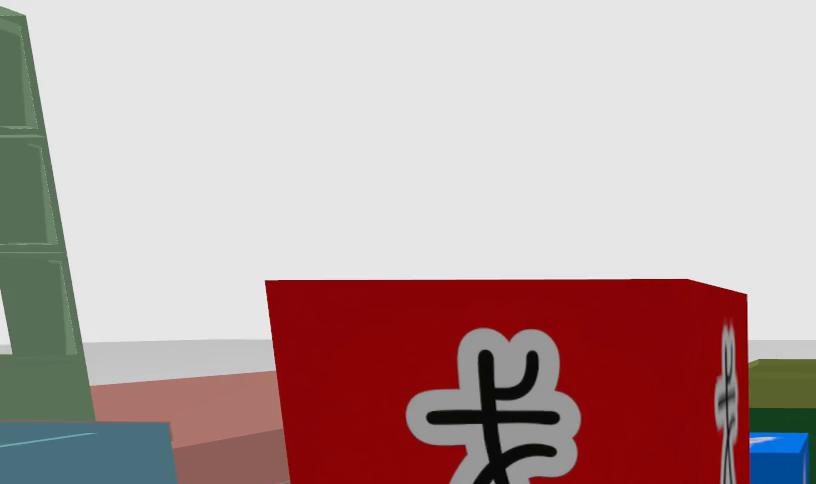KFS_FAKE: (265, 280, 752, 484), (407, 329, 579, 484), (715, 322, 738, 484)
KFS_REAL: (748, 432, 808, 484)
